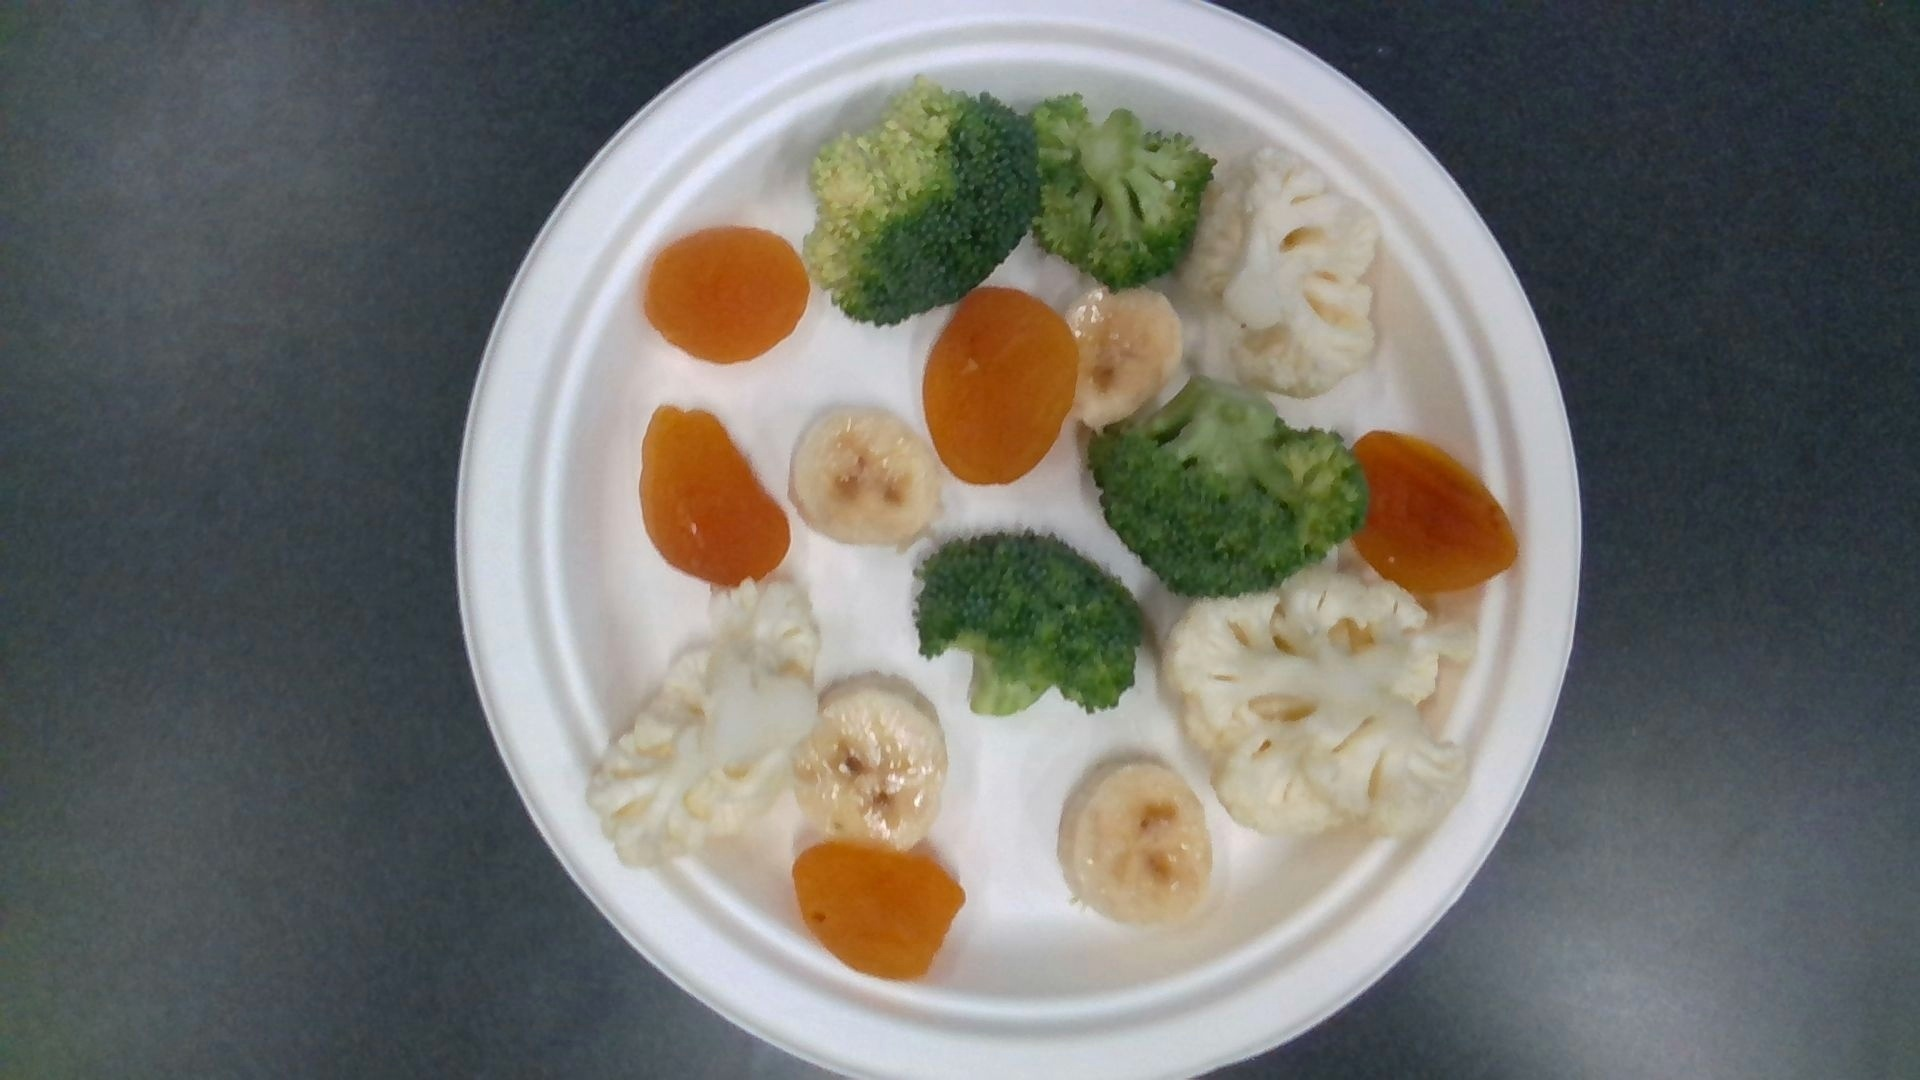apricot: (924, 286, 1079, 485), (1350, 430, 1520, 591), (642, 405, 793, 583), (793, 841, 965, 975), (649, 228, 810, 363)
banana: (796, 676, 949, 847), (1059, 758, 1215, 918), (794, 406, 940, 546), (1067, 291, 1179, 425)
broccoli: (1085, 378, 1365, 595), (812, 78, 1034, 323), (915, 535, 1139, 716), (1029, 94, 1211, 281)
cauliflower: (1164, 568, 1474, 828), (589, 580, 820, 861), (1182, 141, 1379, 392)
